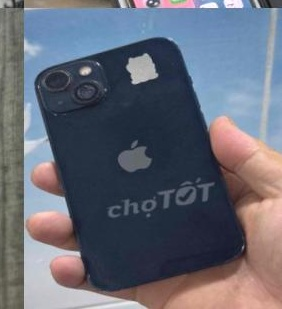physical_damage: (42, 61, 106, 108)
